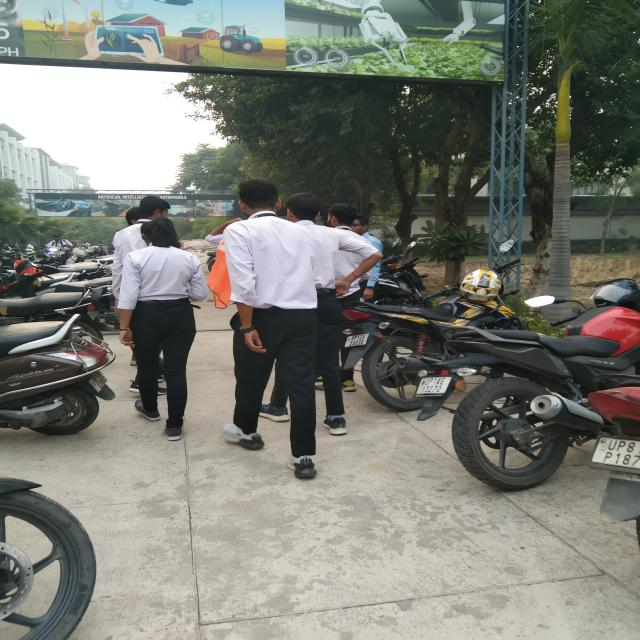unsafe: (229, 178, 326, 468), (284, 192, 378, 435), (118, 216, 208, 439), (323, 203, 377, 396)
